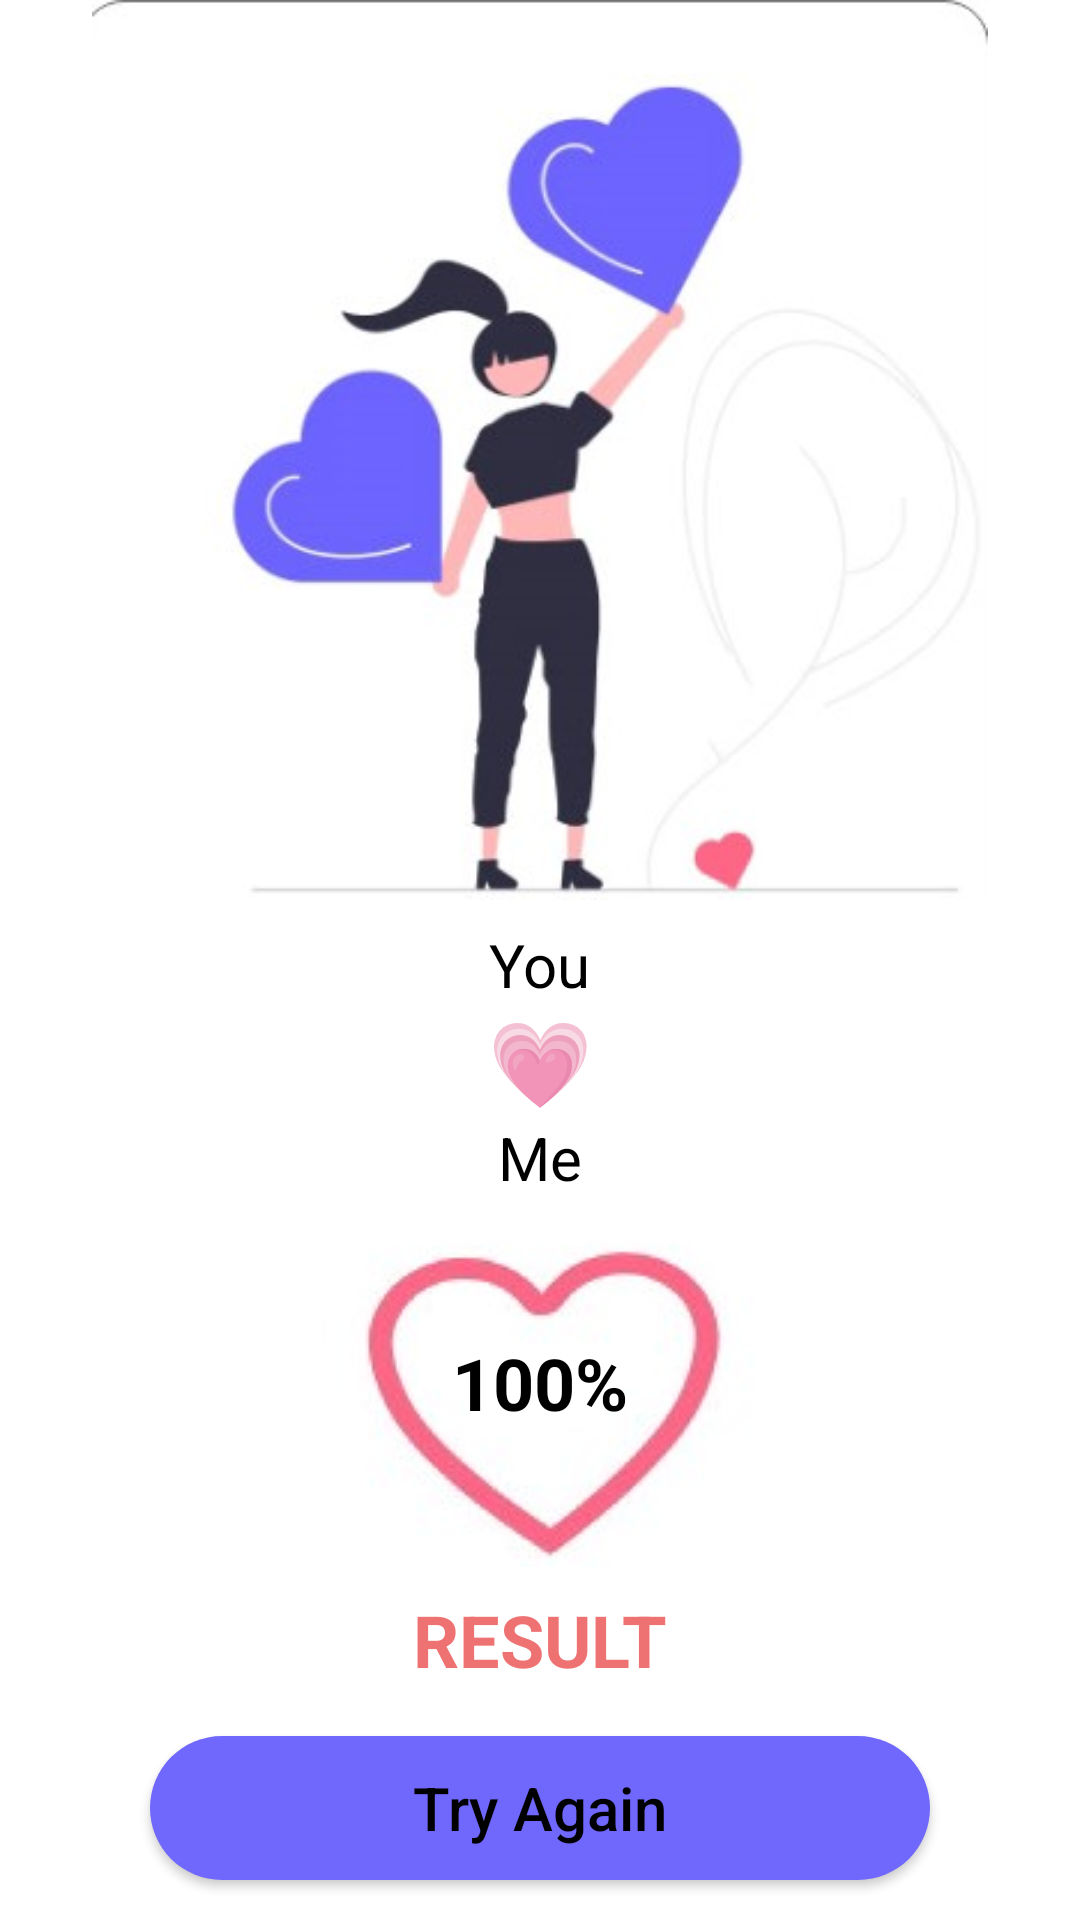

Locate icon controls on the screen. Image size 1080px×1920px, boxes as bbox=[x1, y1, x2, y2].
heart stroke: bbox=[366, 1251, 721, 1556]
